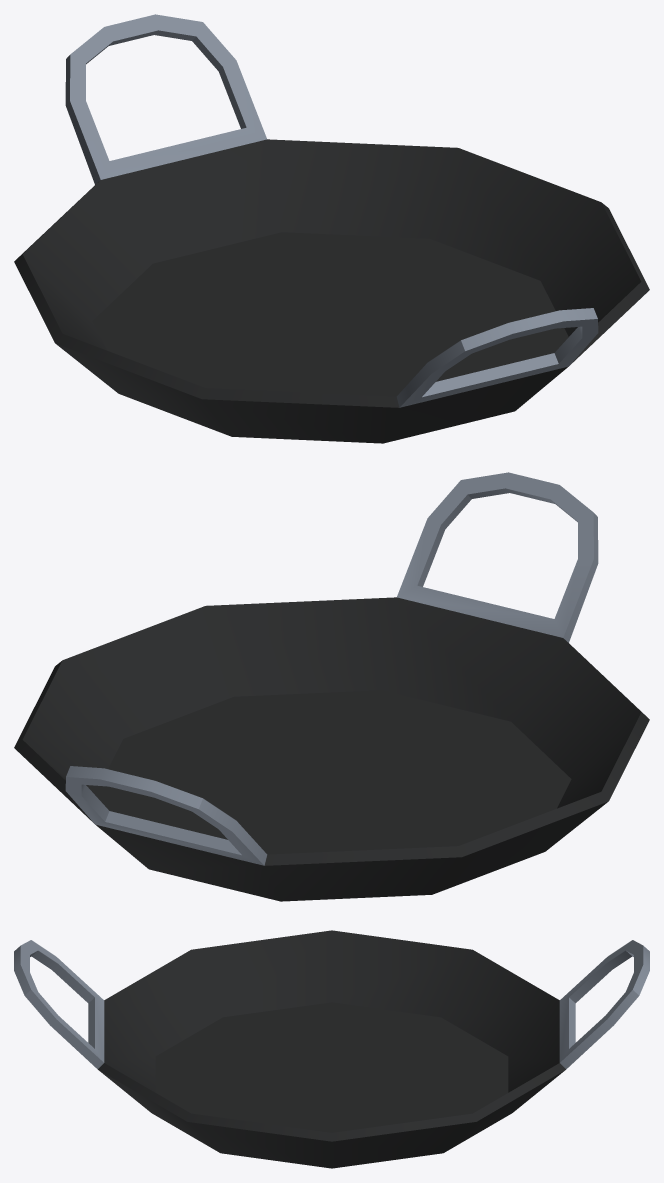
The model's file is cooking_assets_pan.glb.
The picture shows the model from 3 angles, top to bottom: view 1: azimuth 30°, elevation 25°; view 2: azimuth 150°, elevation 25°; view 3: azimuth 270°, elevation 25°; orthographic projection. The views are drawn at different scales.
Parts seen in each view (by area): view 1: pan_paella_pan_Cylinder.072; view 2: pan_paella_pan_Cylinder.072; view 3: pan_paella_pan_Cylinder.072.
Part boxes in pixels (box(x1,y1,x2,y2)): pan_paella_pan_Cylinder.072: box(14, 14, 649, 443); pan_paella_pan_Cylinder.072: box(14, 472, 649, 901); pan_paella_pan_Cylinder.072: box(14, 930, 649, 1168).
Bounding box in the file's own units: 9.73 × 2.91 × 12.57.
Materials: 1 (1 with a texture image).
